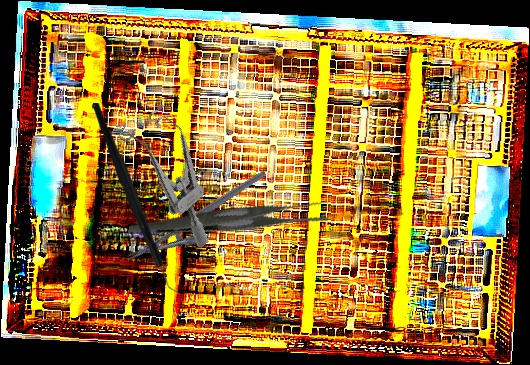Chopper: (90, 100, 186, 300)
Dressing Forceps: (127, 158, 333, 276)
Needle Holder: (125, 169, 279, 281)
Speculum: (104, 93, 250, 250)
